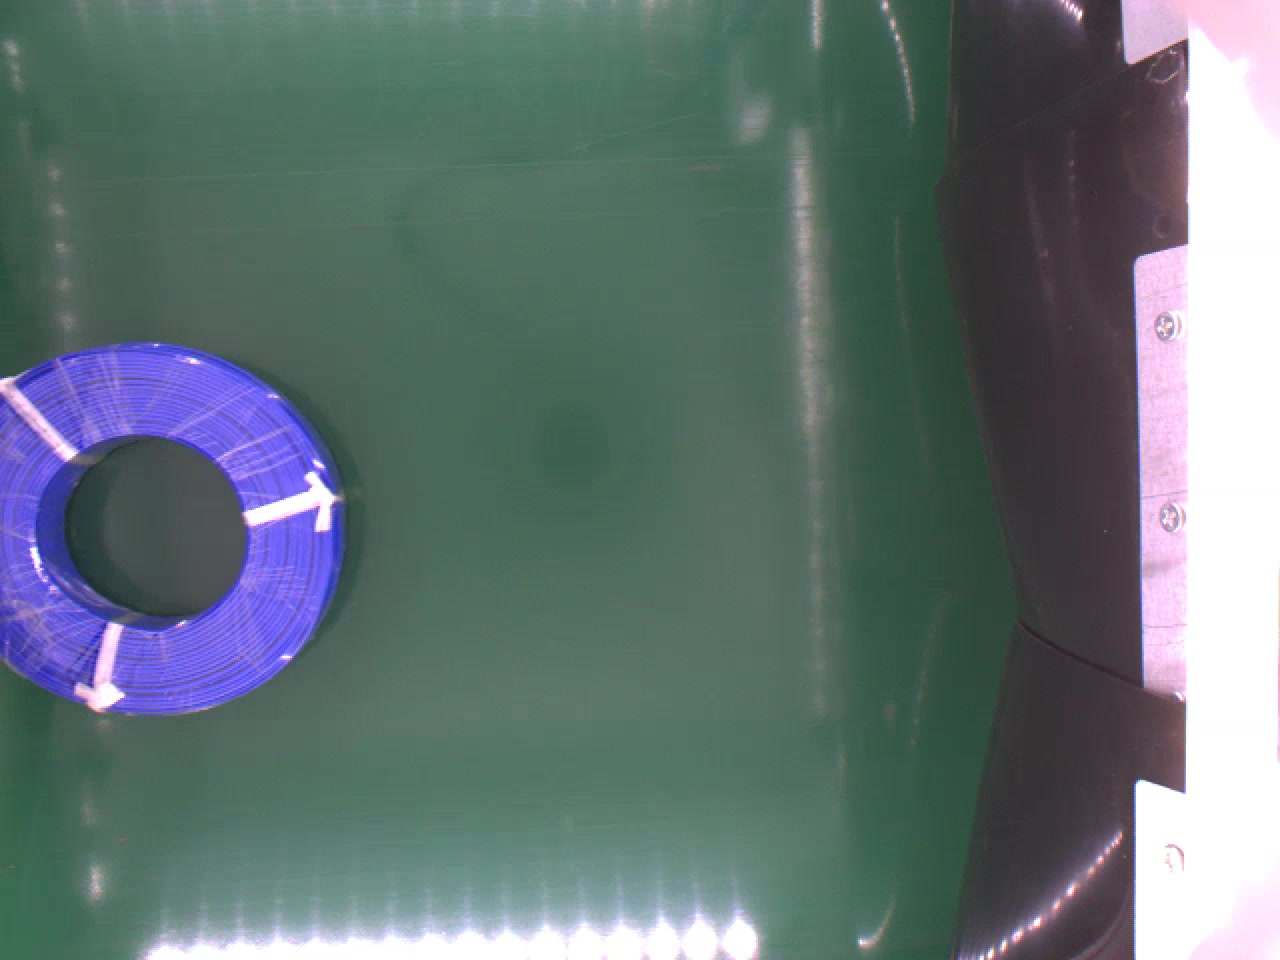blue: (0, 340, 355, 722)
